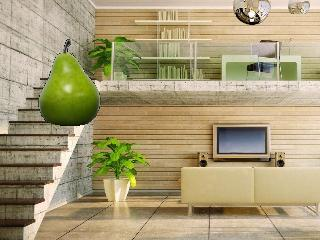pear: (38, 37, 104, 128)
